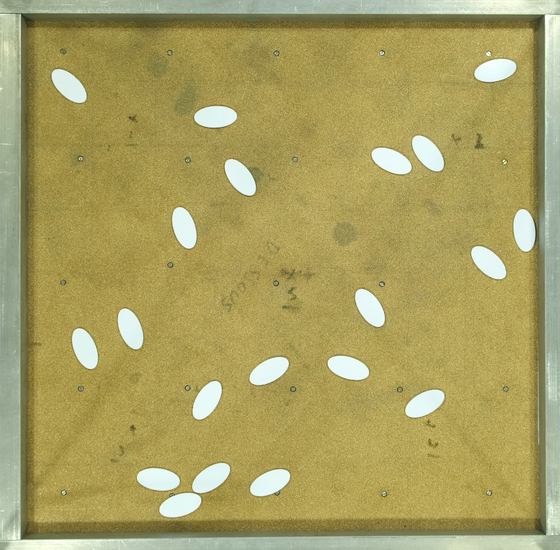pallet: (47, 63, 91, 106), (345, 286, 389, 329), (504, 208, 548, 251), (465, 239, 509, 282), (407, 132, 451, 175), (472, 48, 516, 91), (368, 140, 412, 183), (60, 325, 104, 368), (110, 307, 154, 350), (161, 205, 205, 248), (217, 152, 261, 195), (193, 96, 237, 139), (137, 459, 181, 502), (189, 455, 233, 498), (246, 462, 290, 505), (401, 380, 445, 423), (185, 378, 229, 421), (325, 344, 369, 387), (247, 350, 291, 393), (159, 487, 203, 530)
